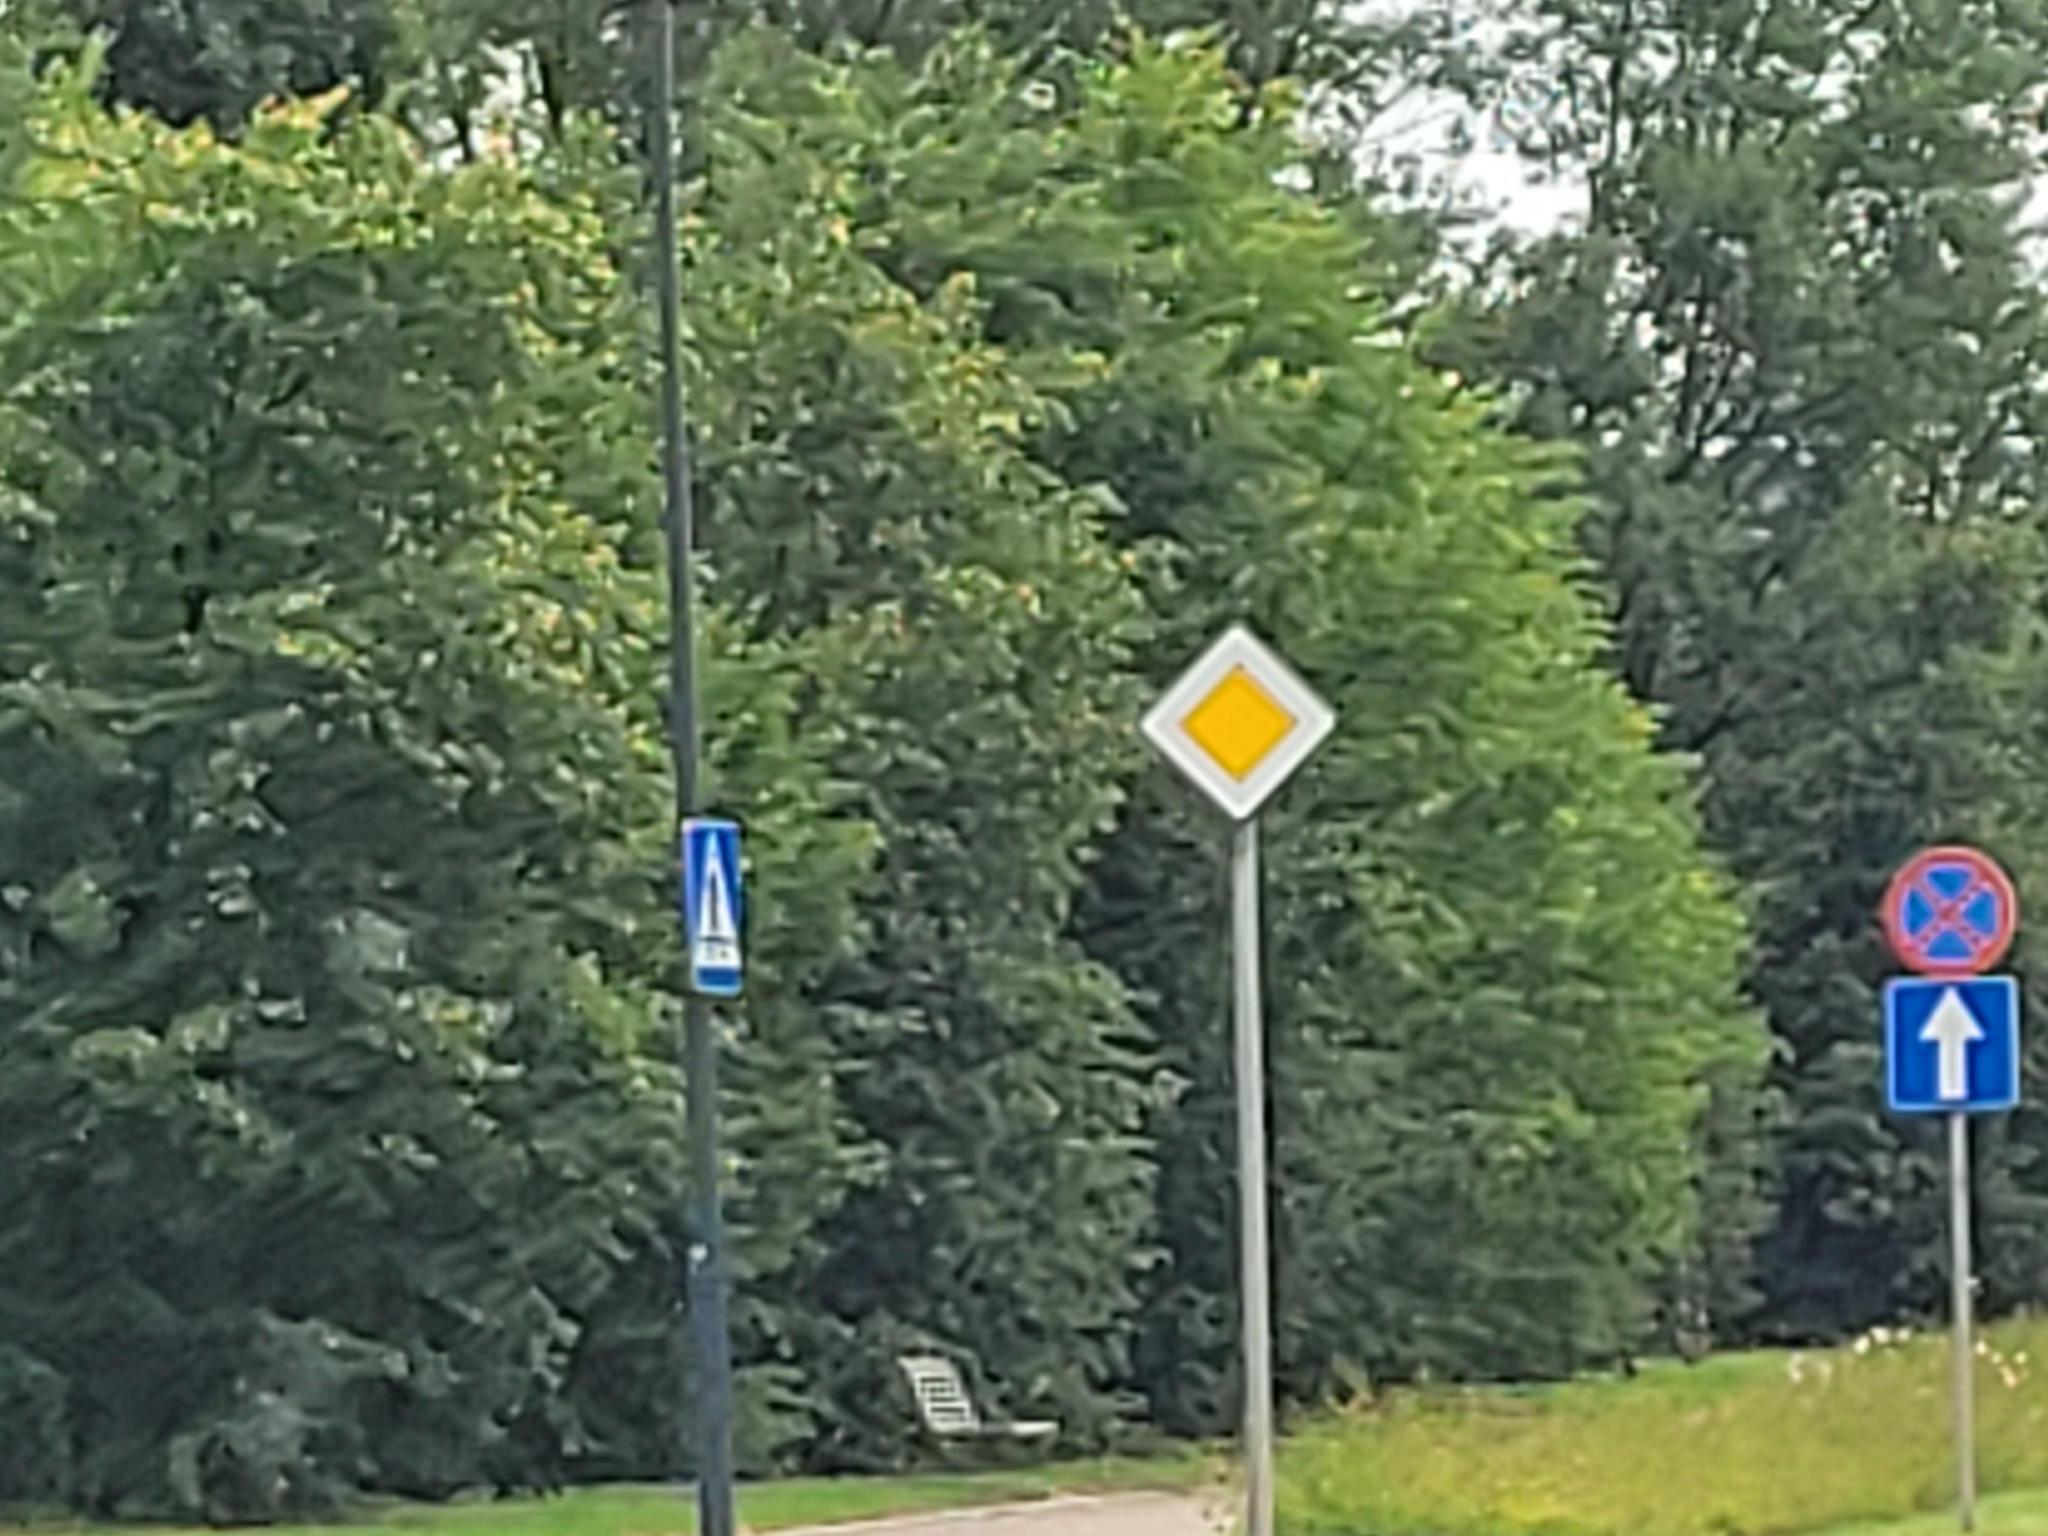information: (1138, 621, 1342, 821), (1890, 981, 2014, 1105), (695, 821, 742, 991)
prohibitory: (1882, 844, 2021, 978)
